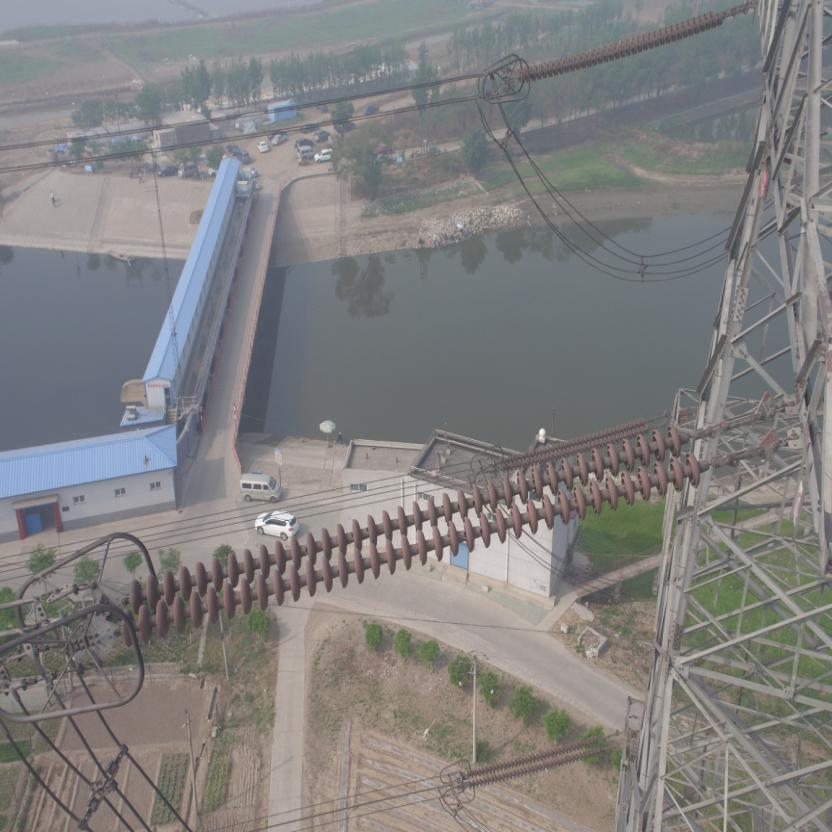insulator: (113, 420, 733, 652), (515, 6, 742, 80), (489, 409, 661, 468), (464, 732, 614, 791)
